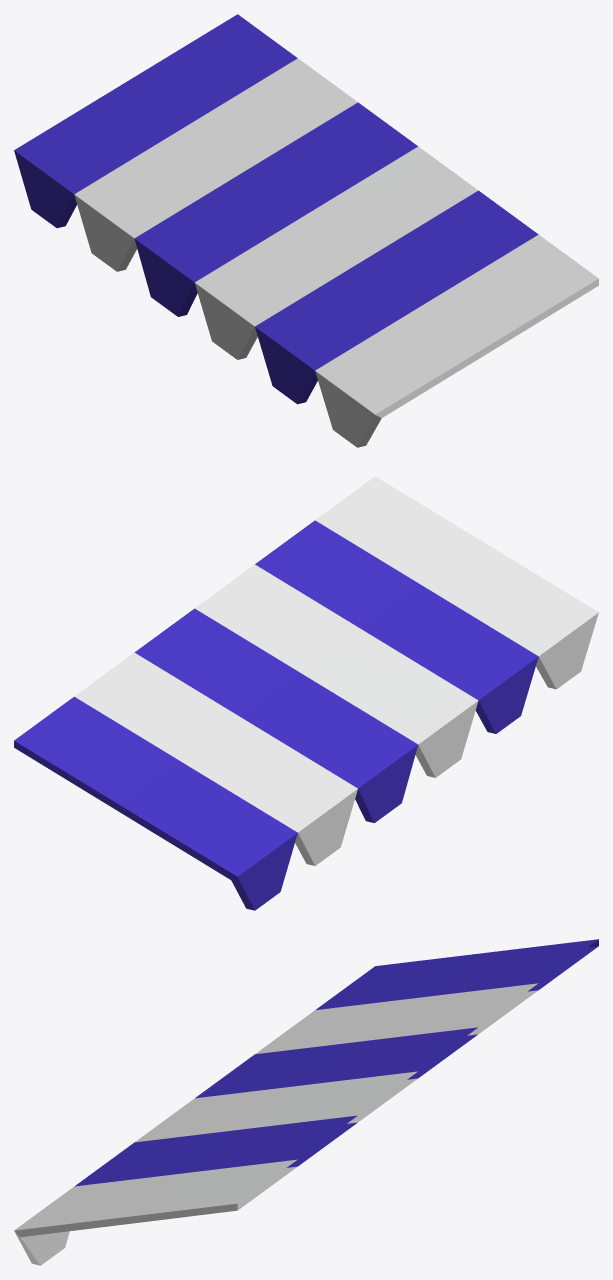
File: Awning_3_B.glb
3 views of the same model, one above another, from view 1: azimuth 30°, elevation 25°; view 2: azimuth 150°, elevation 25°; view 3: azimuth 330°, elevation 25° (orthographic).
Parts seen in each view (by area): view 1: Awning_3_B; view 2: Awning_3_B; view 3: Awning_3_B.
Part boxes in pixels (<box>): Awning_3_B: <box>14,14,598,447</box>; Awning_3_B: <box>14,476,598,910</box>; Awning_3_B: <box>14,939,598,1265</box>.
Bounding box in the file's own units: 0.9994 × 0.5472 × 2.8.
Materials: 2 (2 with a texture image).
